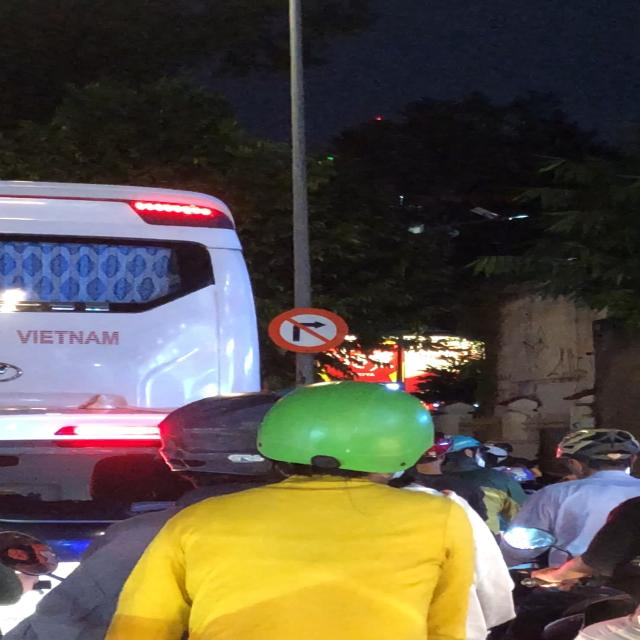Bien bao cam re phai: (260, 304, 358, 358)
